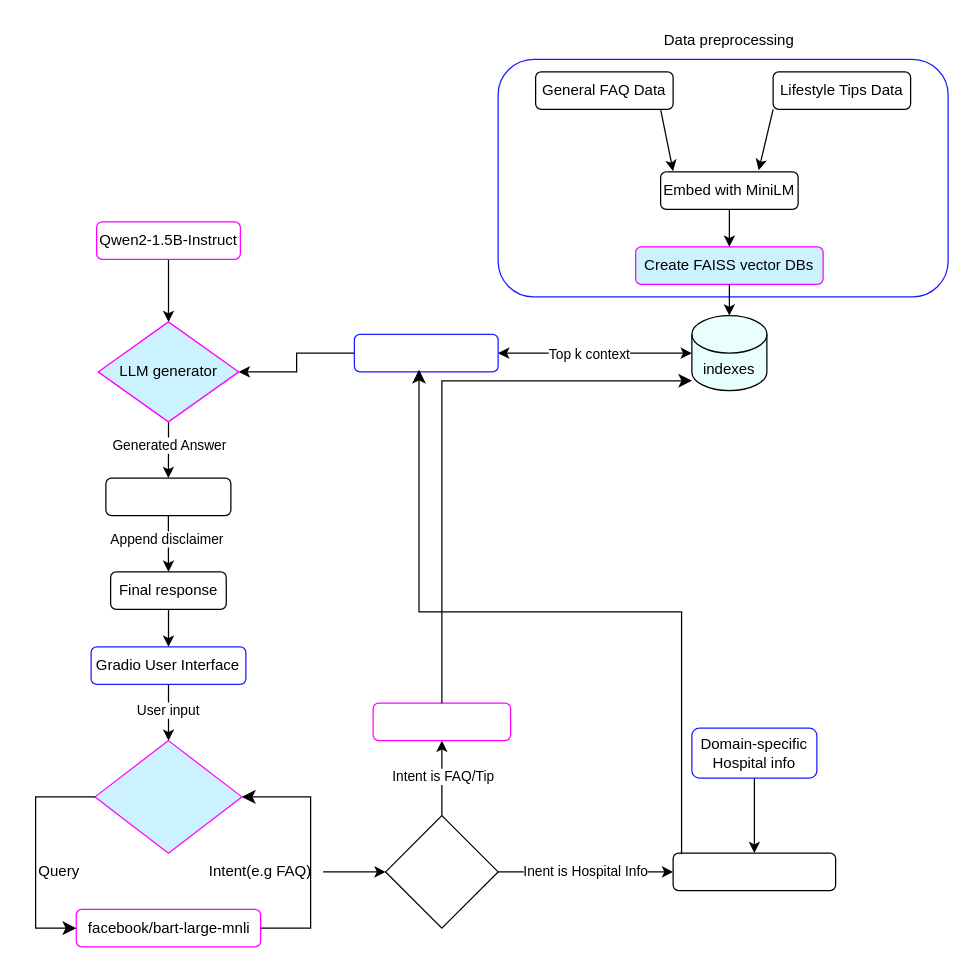
Image size: 970x969. Some labels were removed from this diagram. Each missing label, with the centre of its shape:
"Embed Query w/ MiniLM" belongs at point (441, 721).
"Load into in-memory" belongs at point (754, 871).
"Output formatter" belongs at point (168, 496).
"Prompt Engineering" belongs at point (425, 352).
"Targeted retriever" belongs at point (441, 871).
"zero shot intent classifier" belongs at point (168, 796).
